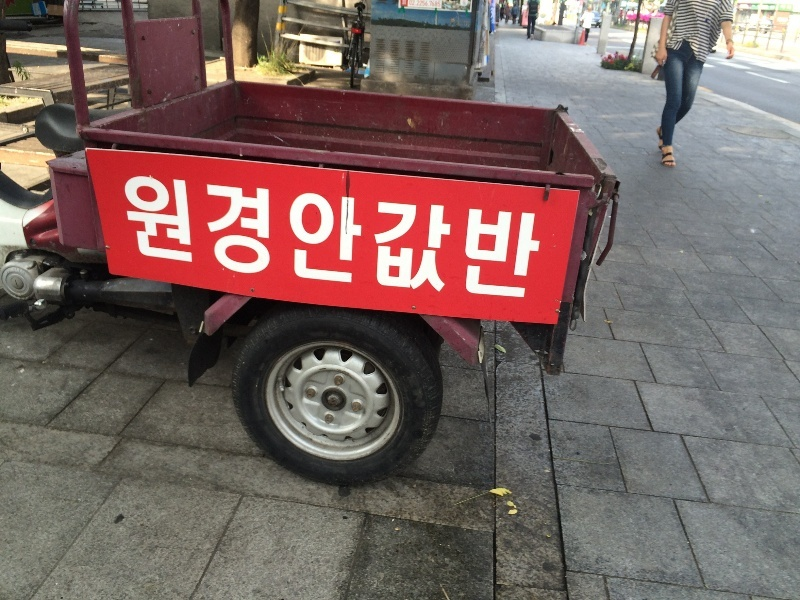text: (97, 148, 112, 329), (113, 148, 128, 329), (129, 148, 144, 329), (145, 148, 160, 329), (161, 148, 176, 329), (177, 148, 192, 329), (193, 148, 208, 329), (209, 148, 224, 329), (225, 148, 240, 329), (241, 148, 256, 329), (257, 148, 272, 329), (273, 148, 288, 329), (289, 148, 304, 329), (305, 148, 320, 329), (321, 148, 336, 329), (337, 148, 352, 329), (353, 148, 368, 329), (369, 148, 384, 329), (385, 148, 400, 329), (401, 148, 416, 329), (417, 148, 432, 329), (433, 148, 448, 329), (449, 148, 464, 329), (465, 148, 480, 329), (481, 148, 496, 329), (497, 148, 512, 329), (513, 148, 528, 329), (529, 148, 544, 329), (545, 148, 560, 329), (561, 148, 576, 329), (90, 148, 96, 329), (577, 148, 582, 329), (417, 1, 432, 7), (433, 1, 441, 8), (409, 1, 416, 6), (429, 1, 432, 8)
